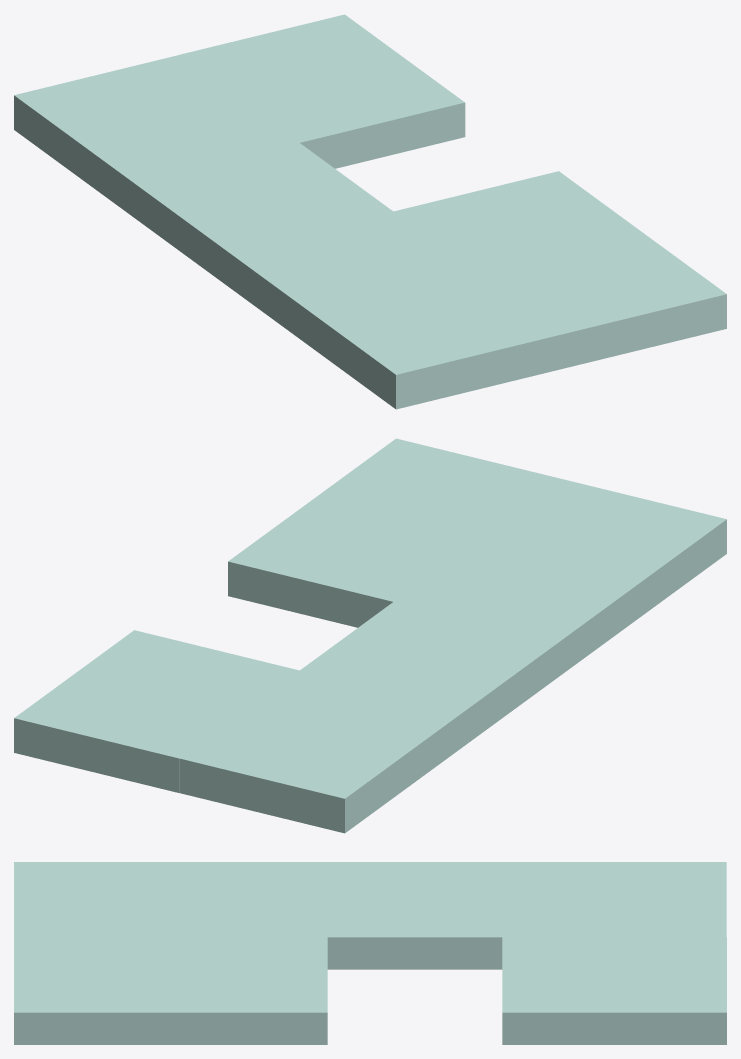
File: Deur_Rechts.fbx
The picture shows the model from 3 angles, top to bottom: view 1: azimuth 30°, elevation 25°; view 2: azimuth 150°, elevation 25°; view 3: azimuth 270°, elevation 25°; orthographic projection. The views are drawn at different scales.
Parts seen in each view (by area): view 1: Deur_Rechts; view 2: Deur_Rechts; view 3: Deur_Rechts.
Part boxes in pixels (x1,y1,x2,y2): Deur_Rechts: (14, 14, 726, 409); Deur_Rechts: (14, 438, 726, 833); Deur_Rechts: (14, 862, 726, 1044).
Bounding box in the file's own units: 2 × 0.2 × 4.
